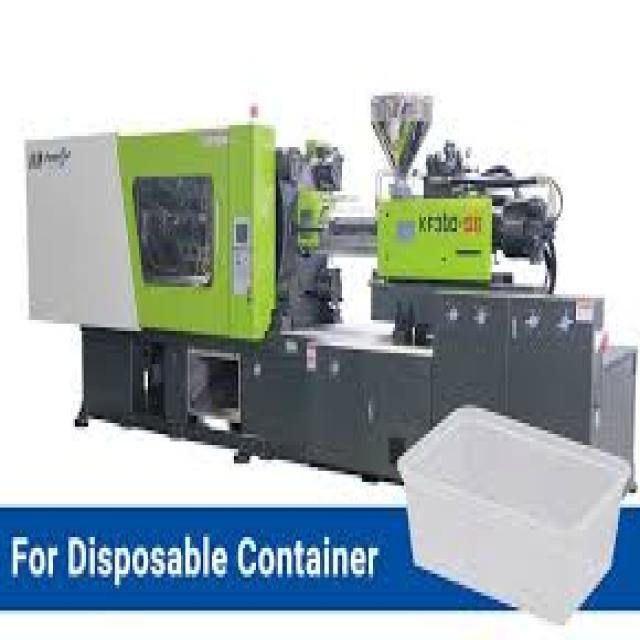disposable: (400, 384, 640, 612)
